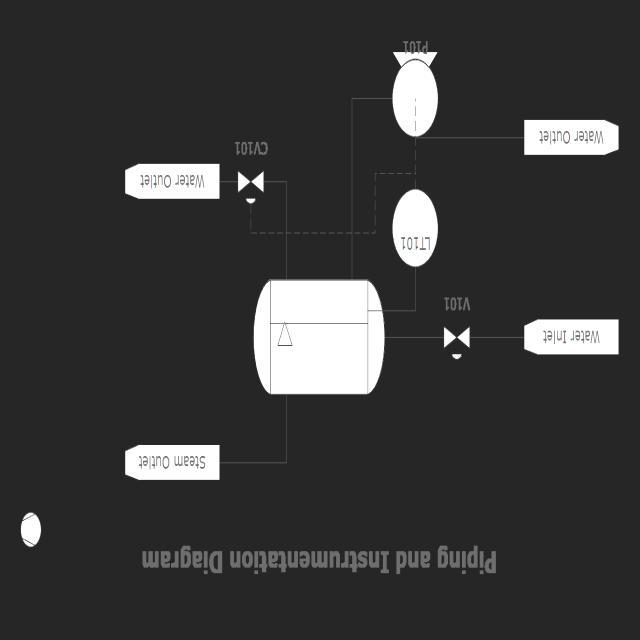Centrifugal Pump: (373, 41, 449, 170)
Pneumatic-Diaphragm Gate Valve: (434, 326, 478, 369), (229, 162, 267, 210)
